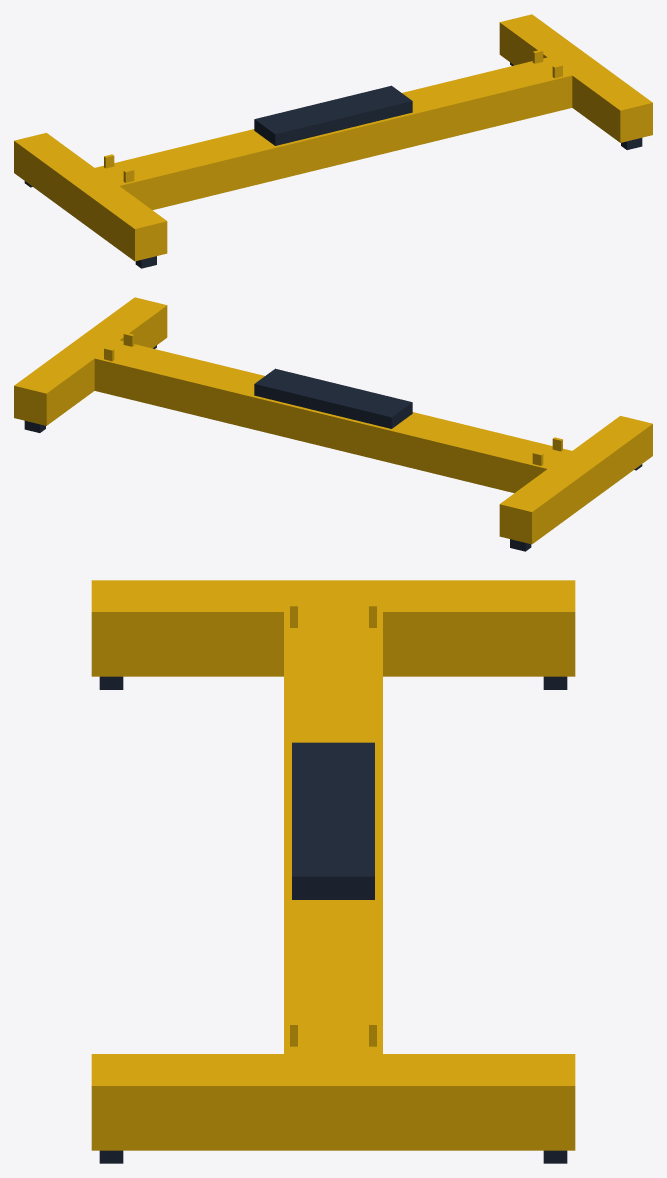
Rendered from modulift_spreader.glb.
3 views of the same model, one above another, from view 1: azimuth 30°, elevation 25°; view 2: azimuth 150°, elevation 25°; view 3: azimuth 270°, elevation 25° (orthographic). The views are drawn at different scales.
Visible parts, largest first — view 1: Modulift_Spreader_20ft; view 2: Modulift_Spreader_20ft; view 3: Modulift_Spreader_20ft.
Part boxes in pixels (x1,y1,x2,y2): Modulift_Spreader_20ft: (14,14,652,268); Modulift_Spreader_20ft: (14,297,652,551); Modulift_Spreader_20ft: (91,580,575,1163).
Size of the model in its own units: 6.04 by 0.61 by 2.44.
